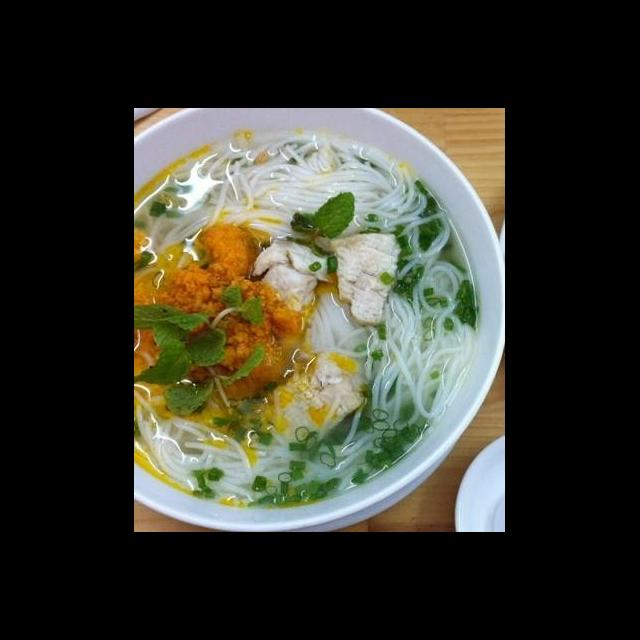bun: (363, 202, 492, 487), (136, 404, 444, 517), (138, 127, 450, 235), (302, 281, 383, 384)
bun ca: (152, 136, 506, 532)
ca: (326, 224, 404, 322), (247, 237, 336, 317)
tom: (193, 221, 264, 291)
